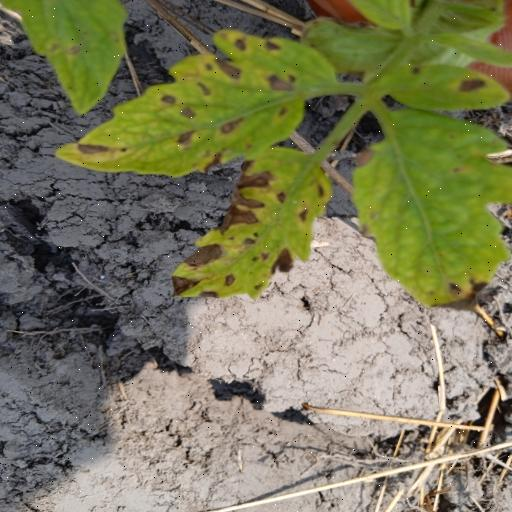Tomato_Brown_Spots: (50, 25, 346, 181), (345, 101, 512, 314), (163, 145, 337, 305)
